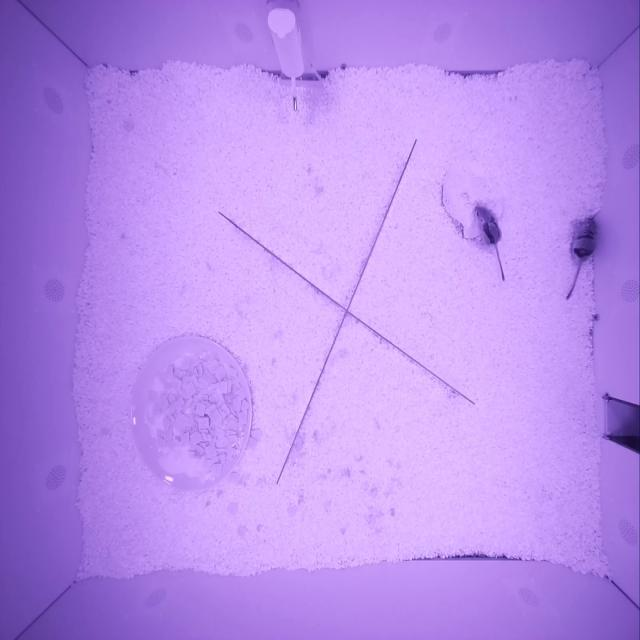pup_h_stripe: (572, 218, 598, 264)
pup_v_stripe: (474, 205, 502, 246)
